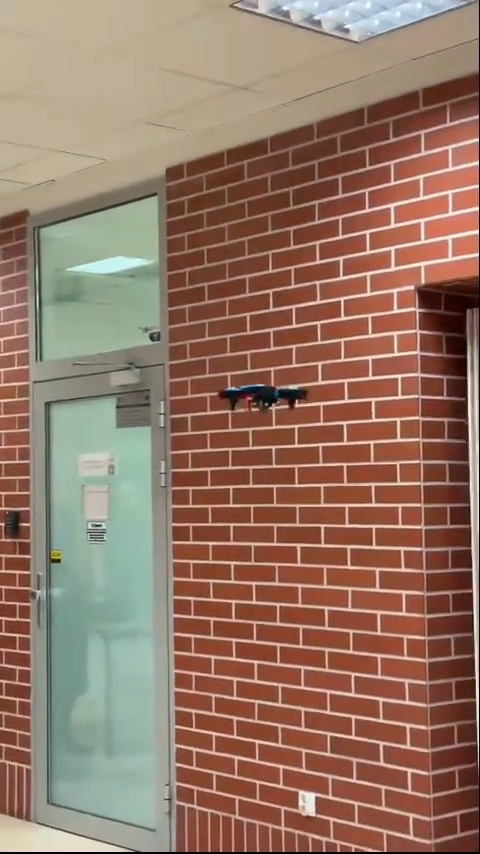drone: (217, 378, 316, 414)
